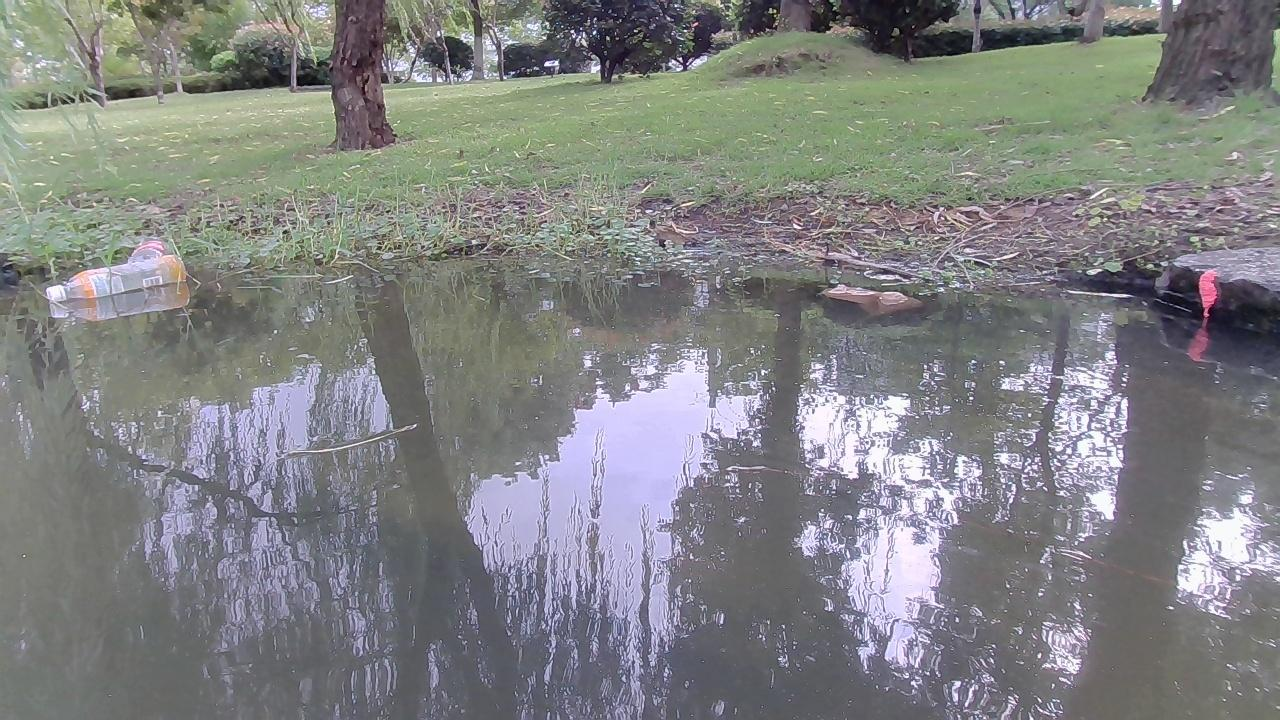bottle: (46, 251, 191, 305), (133, 237, 168, 264)
